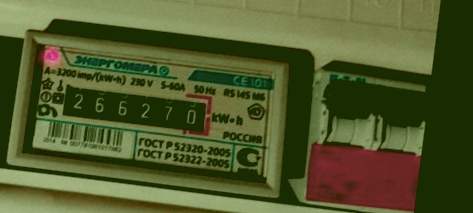0: (183, 106, 197, 125)
2: (69, 90, 85, 109), (138, 99, 151, 119)
6: (92, 94, 106, 113), (115, 98, 129, 117)
7: (161, 102, 174, 122)
screen: (51, 73, 218, 142)
